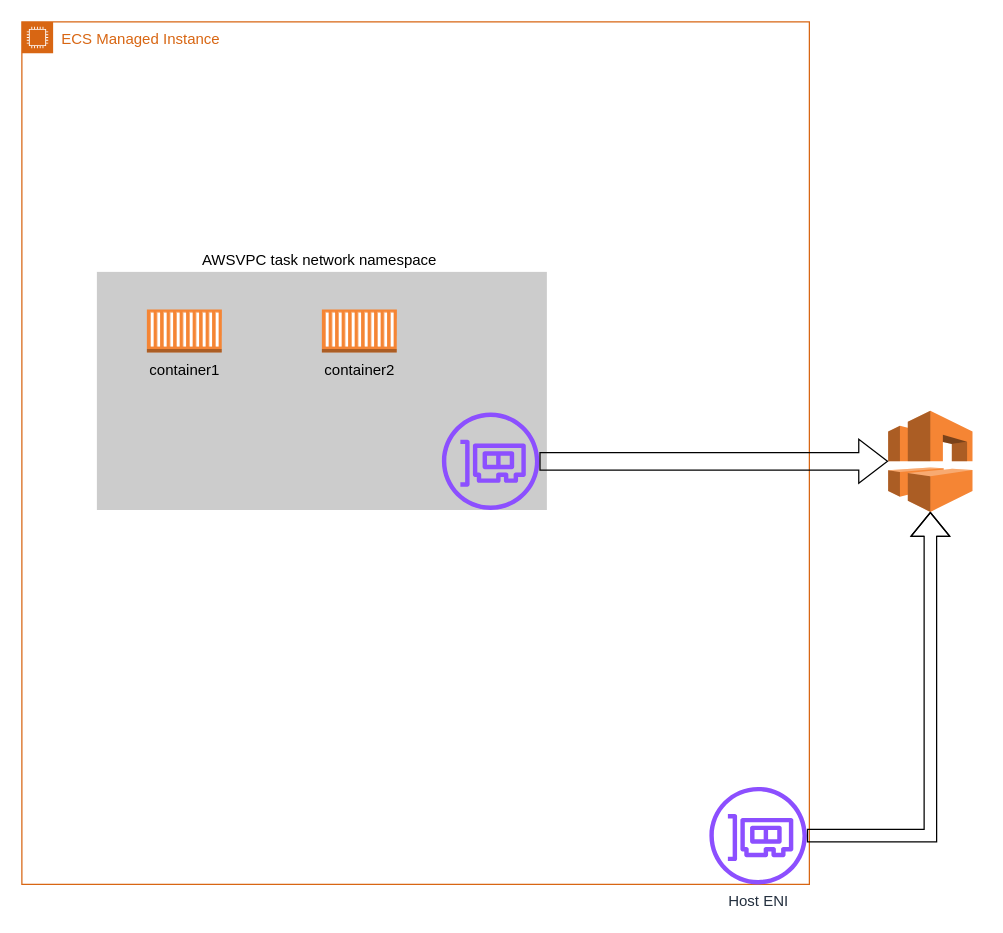
Some shapes in this 1003 by 933 pixel diagram are drawn without their labels. The shapes that lost their labels are listed below. From the top down, each one's centre as x and y in pixels, then its label:
At point 490,460: "Task ENI".
At point 929,460: "Customer VPC".
